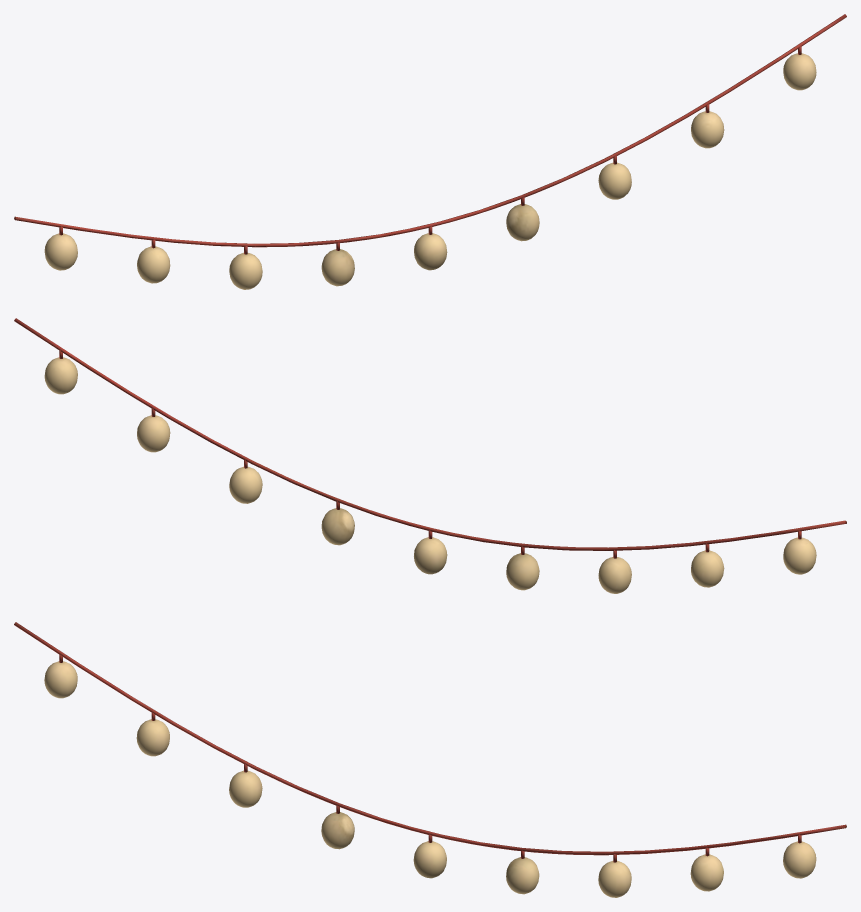
File: garland.glb
3 renders of one model, top to bottom at view 1: azimuth 30°, elevation 25°; view 2: azimuth 150°, elevation 25°; view 3: azimuth 330°, elevation 25°, orthographic.
Parts seen in each view (by area): view 1: prop_garland_paper, prop_garland_felt; view 2: prop_garland_paper, prop_garland_felt; view 3: prop_garland_paper, prop_garland_felt.
Boxes of the visible parts, x1,y1,x2,y2 form: prop_garland_paper: (44, 53, 816, 289); prop_garland_felt: (14, 14, 846, 254); prop_garland_paper: (44, 357, 816, 593); prop_garland_felt: (14, 318, 846, 558); prop_garland_paper: (44, 661, 816, 897); prop_garland_felt: (14, 622, 846, 862).
Bounding box in the file's own units: 4.01 × 0.7068 × 0.14.
2 materials, 2 textured.
